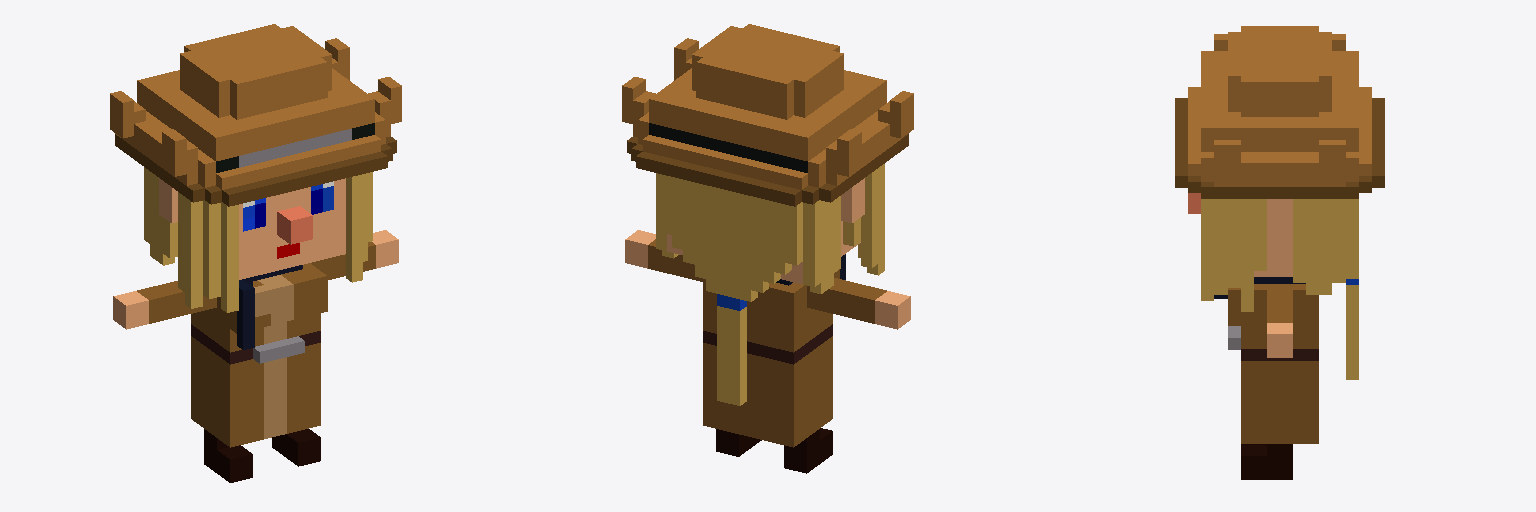
3 renders of one model, left to right at view 1: azimuth 30°, elevation 25°; view 2: azimuth 150°, elevation 25°; view 3: azimuth 270°, elevation 25°, orthographic.
Visible parts, largest first — view 1: object 1; view 2: object 1; view 3: object 1.
Part boxes in pixels (bbox=[...]): object 1: bbox=[110, 24, 401, 482]; object 1: bbox=[622, 24, 913, 473]; object 1: bbox=[1175, 26, 1384, 479].
Size of the model in its own units: 2.4 by 3.4 by 1.6.
Materials: 1 (1 with a texture image).